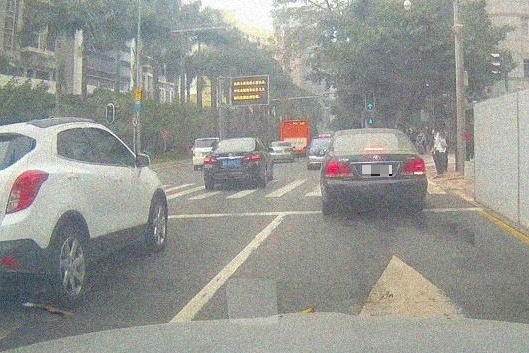L_light: (324, 162, 354, 176), (204, 157, 218, 164)
R_light: (401, 158, 426, 175), (244, 154, 261, 161)
T_light: (364, 146, 384, 151), (231, 140, 241, 143)
day-brake: (320, 128, 428, 215)
day-no: (204, 137, 262, 189)
plate_1: (362, 165, 392, 176)
